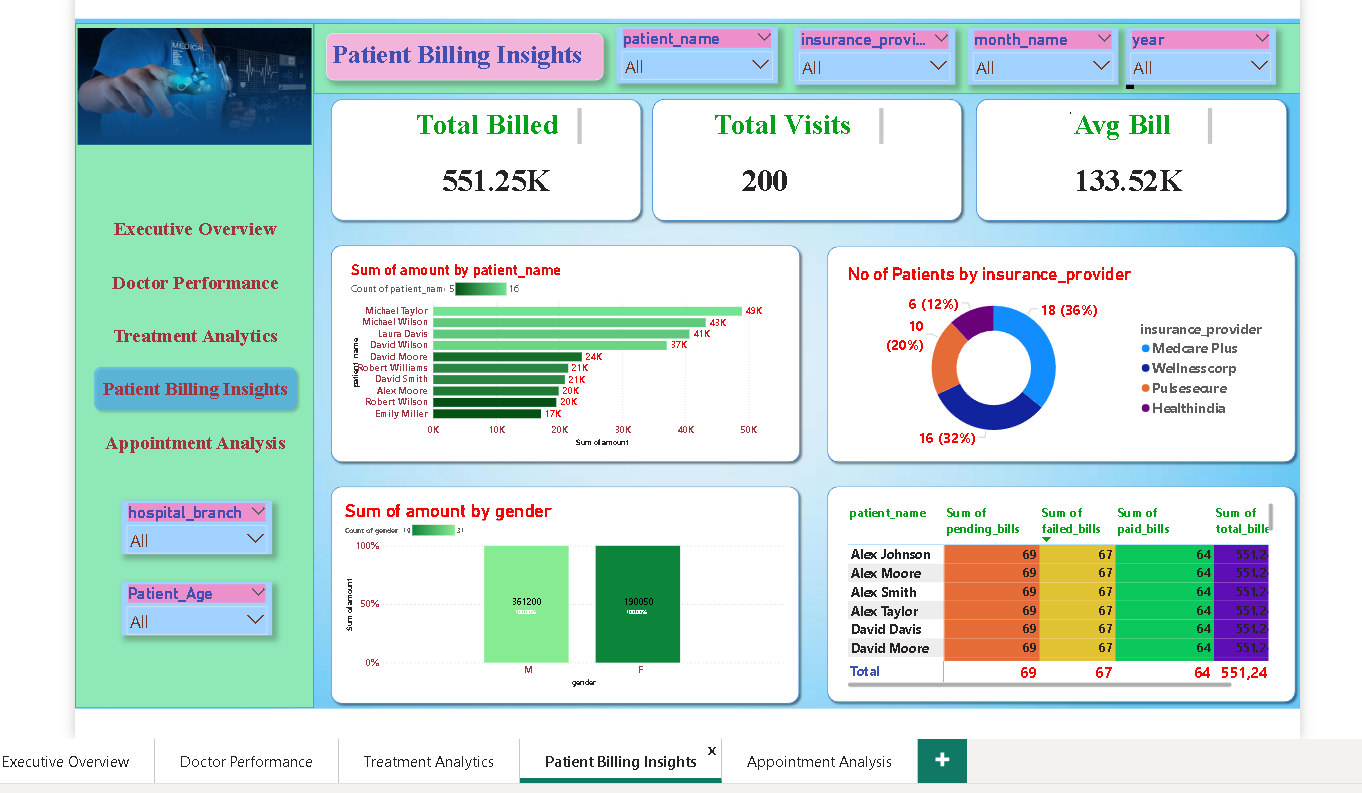

The dashboard page shown, as its layout file describes it:
{"tool":"powerbi","page":{"name":"Patient Billing Insights","canvas":[2300,1400],"ordinal":3},"visuals":[{"type":"shape","box":[0,56.3,448.2,1285.7],"z":0},{"type":"actionButton","box":[24.7,392,400,100.2],"z":0,"group":"g1"},{"type":"group","id":"g1","title":"Group 1","box":[24.7,392,399.4,500.5],"z":1000},{"type":"actionButton","box":[24.7,492.2,400,100.2],"z":1000,"group":"g1"},{"type":"shape","box":[448.8,56.7,1851.7,133.1],"z":2000},{"type":"actionButton","box":[24.7,592.5,400,100.2],"z":2000,"group":"g1"},{"type":"shape","box":[471.3,189.5,600,245.9],"z":3000},{"type":"actionButton","box":[24.7,793,400,99],"z":3000,"group":"g1"},{"type":"shape","box":[1075,189.9,599.2,246.6],"z":4000},{"type":"actionButton","box":[24.7,692.7,400,100.2],"z":4000,"group":"g1"},{"type":"shape","box":[1681.6,189.9,601.6,246.6],"z":5000},{"type":"shape","box":[470.7,465.6,898,424.7],"z":6000},{"type":"shape","box":[471.3,916.9,896.4,425.2],"z":7000},{"type":"shape","box":[1403.6,916.9,896.4,422.6],"z":8000},{"type":"shape","box":[1403.6,466.1,896.4,422.6],"z":9000},{"type":"textbox","box":[470.9,74,520.3,88.8],"z":10000},{"type":"textbox","box":[636.2,212.1,320.5,83.8],"z":11000},{"type":"textbox","box":[1193.4,212.1,327.9,83.8],"z":12000},{"type":"textbox","box":[1851.7,212.1,288.5,83.8],"z":13000},{"type":"cardVisual","fields":{"Data":["Sum(agg_patient_billing_summary.avg_bill_per_visit)"]},"box":[1846.8,295.9,271.2,113.4],"z":14000},{"type":"cardVisual","fields":{"Data":["Sum(agg_patient_billing_summary.total_billed)"]},"box":[658.3,295.9,271.2,113.4],"z":15000},{"type":"cardVisual","fields":{"Data":["Sum(agg_patient_billing_summary.total_visits)"]},"box":[1223,295.9,271.2,113.4],"z":16000},{"type":"barChart","fields":{"Category":["fact_appointments.patient_name"],"Y":["Sum(fact_appointments.amount)"]},"box":[512.9,505.5,811.2,352.6],"z":17000},{"type":"donutChart","fields":{"Category":["dim_patients.insurance_provider"],"Y":["dim_patients.No of Patients"]},"box":[1444.9,507.9,813.7,352.6],"z":18000},{"type":"hundredPercentStackedColumnChart","fields":{"Category":["dim_patients.gender"],"Y":["Sum(fact_appointments.amount)"]},"box":[503,951.8,835.9,355.1],"z":19000},{"type":"pivotTable","fields":{"Rows":["fact_appointments.patient_name"],"Values":["Sum(agg_patient_billing_summary.pending_bills)","Sum(agg_patient_billing_summary.failed_bills)","Sum(agg_patient_billing_summary.paid_bills)","Sum(agg_patient_billing_summary.total_billed)"]},"box":[1444.9,951.8,808.8,355.1],"z":20000},{"type":"slicer","fields":{"Values":["dim_doctors.hospital_branch"]},"box":[86.3,951.8,283.6,101.1],"z":21000},{"type":"slicer","fields":{"Values":["dim_date.year"]},"box":[1970.1,66.6,283.6,106],"z":22000},{"type":"slicer","fields":{"Values":["dim_date.month_name"]},"box":[1674.2,66.6,283.6,106],"z":23000},{"type":"slicer","fields":{"Values":["dim_patients.insurance_provider"]},"box":[1348.7,66.6,303.3,106],"z":24000},{"type":"slicer","fields":{"Values":["fact_appointments.patient_name"]},"box":[1015.9,64.1,303.3,106],"z":25000},{"type":"slicer","fields":{"Values":["dim_patients.age"]},"box":[86.3,1104.6,283.6,101.1],"z":26000},{"type":"image","box":[0,66.6,448.8,219.4],"z":27000}]}

Visuals, with their boxes on the page's 2300x1400 design canvas (x1, y1, x2, y2). These are canvas units, not pixel positions in the 1362x793 screenshot, which may show the page scaled, cropped or inside an application window:
shape: bbox=[0, 56, 448, 1342]
actionButton: bbox=[25, 392, 425, 492]
"Group 1" group: bbox=[25, 392, 424, 892]
actionButton: bbox=[25, 492, 425, 592]
shape: bbox=[449, 57, 2300, 190]
actionButton: bbox=[25, 592, 425, 693]
shape: bbox=[471, 190, 1071, 435]
actionButton: bbox=[25, 793, 425, 892]
shape: bbox=[1075, 190, 1674, 436]
actionButton: bbox=[25, 693, 425, 793]
shape: bbox=[1682, 190, 2283, 436]
shape: bbox=[471, 466, 1369, 890]
shape: bbox=[471, 917, 1368, 1342]
shape: bbox=[1404, 917, 2300, 1340]
shape: bbox=[1404, 466, 2300, 889]
textbox: bbox=[471, 74, 991, 163]
textbox: bbox=[636, 212, 957, 296]
textbox: bbox=[1193, 212, 1521, 296]
textbox: bbox=[1852, 212, 2140, 296]
cardVisual - Sum(agg_patient_billing_summary.avg_bill_per_visit): bbox=[1847, 296, 2118, 409]
cardVisual - Sum(agg_patient_billing_summary.total_billed): bbox=[658, 296, 930, 409]
cardVisual - Sum(agg_patient_billing_summary.total_visits): bbox=[1223, 296, 1494, 409]
barChart - fact_appointments.patient_name x Sum(fact_appointments.amount): bbox=[513, 506, 1324, 858]
donutChart - dim_patients.insurance_provider x dim_patients.No of Patients: bbox=[1445, 508, 2259, 860]
hundredPercentStackedColumnChart - dim_patients.gender x Sum(fact_appointments.amount): bbox=[503, 952, 1339, 1307]
pivotTable - fact_appointments.patient_name x Sum(agg_patient_billing_summary.pending_bills): bbox=[1445, 952, 2254, 1307]
slicer - dim_doctors.hospital_branch: bbox=[86, 952, 370, 1053]
slicer - dim_date.year: bbox=[1970, 67, 2254, 173]
slicer - dim_date.month_name: bbox=[1674, 67, 1958, 173]
slicer - dim_patients.insurance_provider: bbox=[1349, 67, 1652, 173]
slicer - fact_appointments.patient_name: bbox=[1016, 64, 1319, 170]
slicer - dim_patients.age: bbox=[86, 1105, 370, 1206]
image: bbox=[0, 67, 449, 286]
